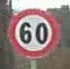limite 60: (6, 6, 59, 60)
